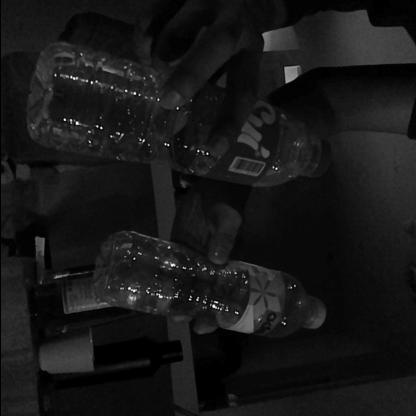plastic_bottles: (28, 48, 330, 183), (98, 226, 326, 336)
